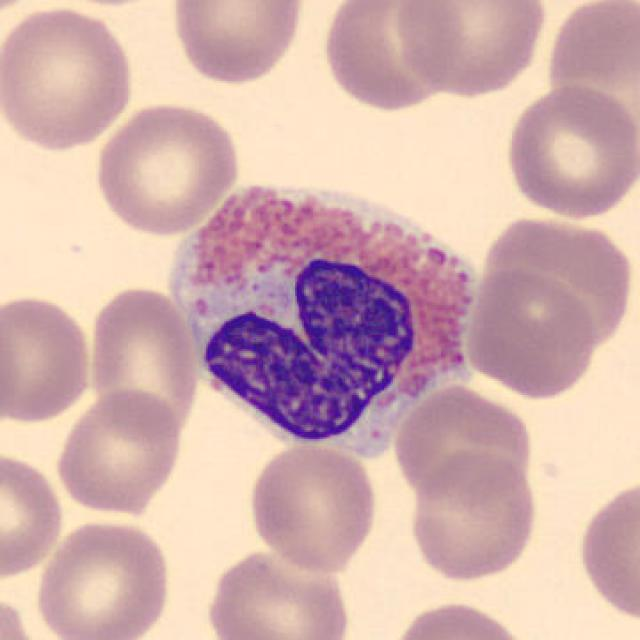Eosinophil: (160, 162, 492, 466)
RBC: (482, 207, 638, 357), (89, 99, 243, 238), (0, 3, 140, 153), (502, 81, 638, 222), (83, 282, 201, 441), (389, 381, 539, 506), (462, 266, 601, 400), (246, 439, 380, 577), (406, 449, 542, 584), (316, 0, 472, 116), (32, 516, 176, 640), (52, 386, 186, 517), (393, 0, 551, 99), (546, 0, 640, 158), (200, 546, 355, 640), (0, 291, 98, 427), (167, 0, 309, 88), (572, 472, 640, 628), (0, 448, 68, 580), (385, 597, 533, 640), (0, 590, 46, 640), (0, 0, 55, 18)
